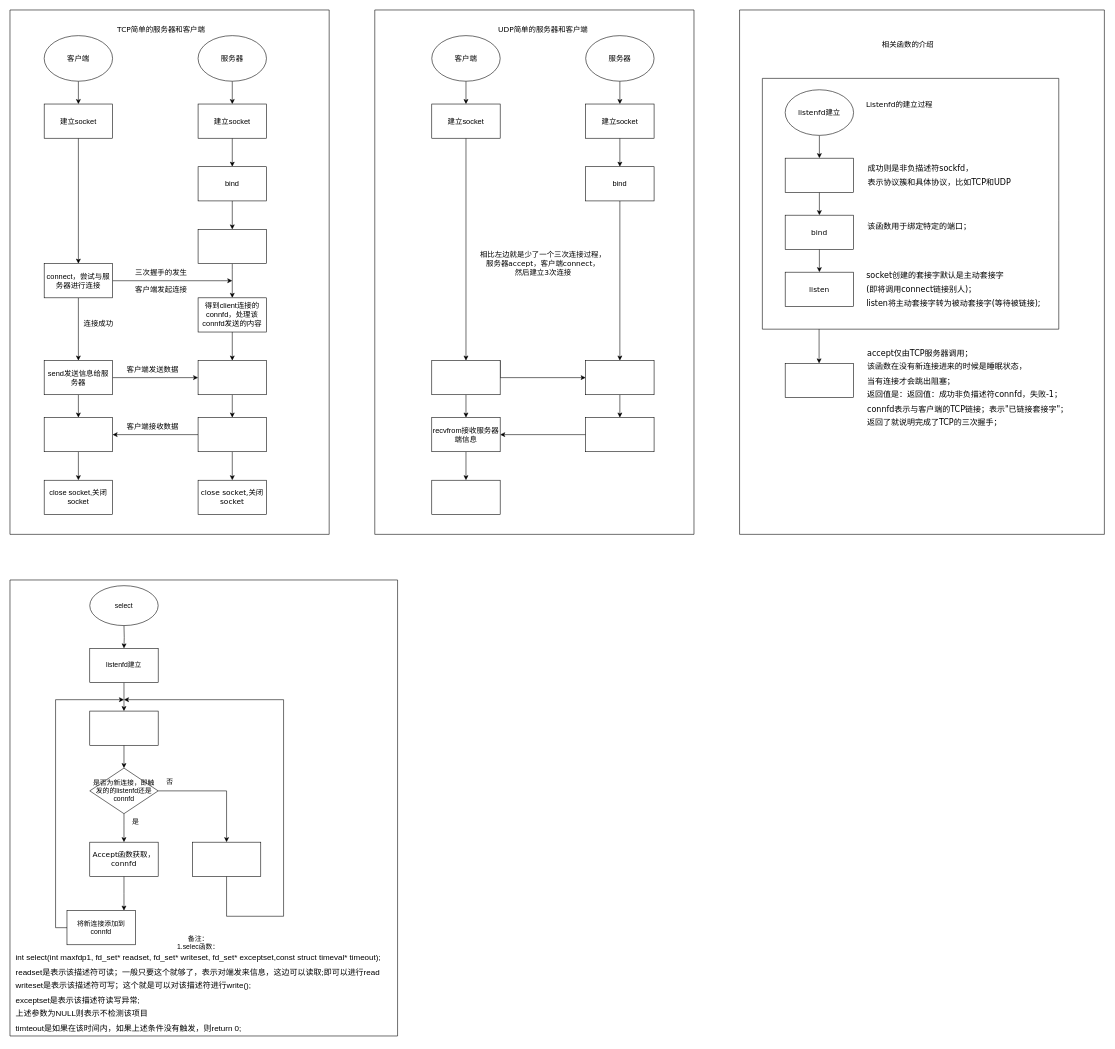
The diagram is 1115 pixels wide and 1049 high, and some of its shapes have lost their labels. The shapes that lost their labels are listed below. From the top down, each one's centre as x and y in pixels, then its label:
At point (819, 175): "socket".
At point (232, 246): "accept,阻塞在accept，等待客户连接".
At point (232, 377): "read，读取客户发过来的信息".
At point (465, 377): "sendto，主动发送消息给服务器".
At point (619, 377): "recvfrom接收客户端信息".
At point (819, 380): "Accept".
At point (78, 434): "read接受服务器返回的信息".
At point (232, 434): "send，将客户发过来的信息，处理后发回去".
At point (619, 434): "sendto，将处理后的信息发送回去给客户端".
At point (465, 497): "close()关闭socket".
At point (123, 728): "select函数阻塞，监听listenfd和connfd".
At point (226, 859): "处理connfd发送过来的消息".
